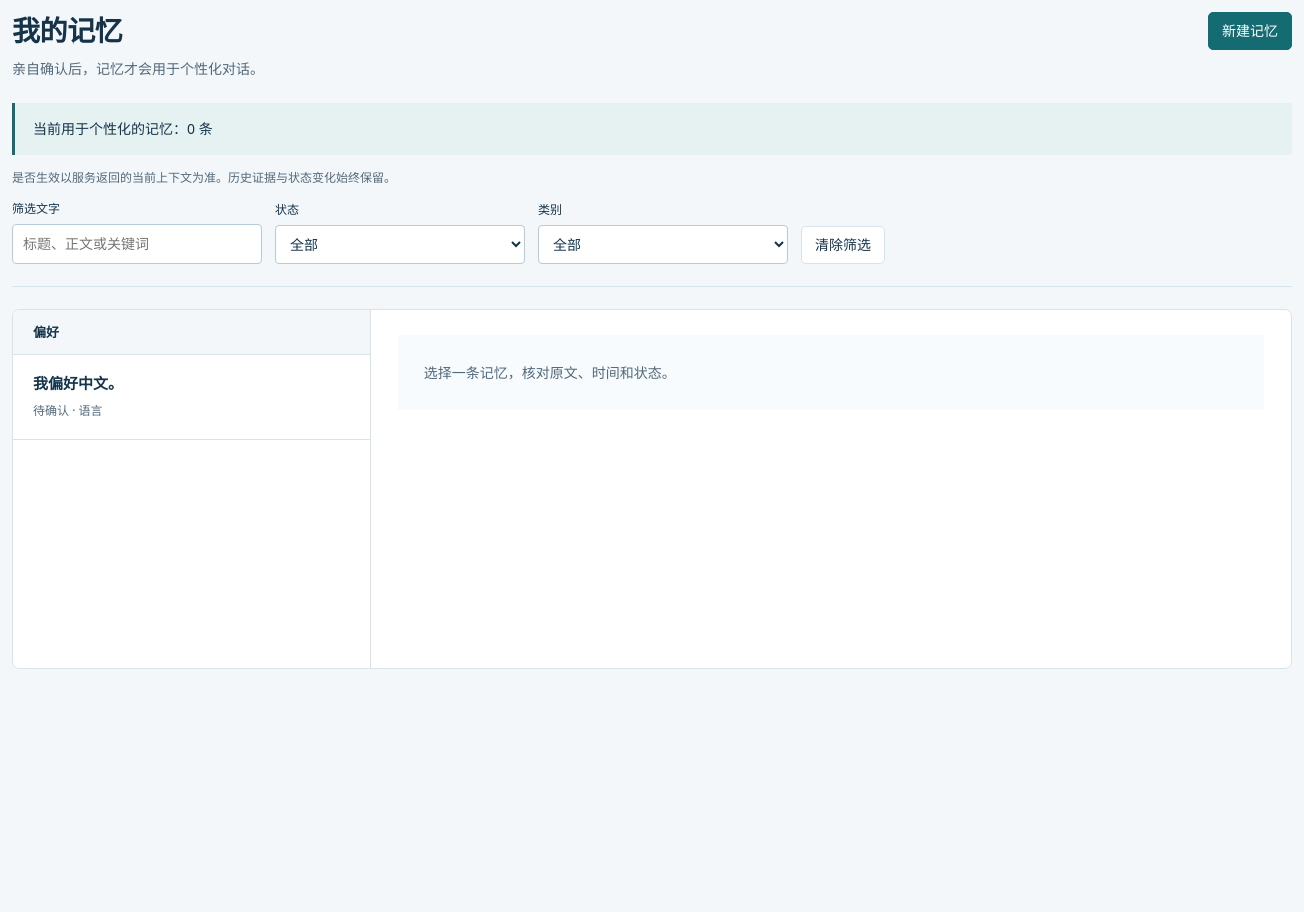
Scenario: confirm and expire a candidate refresh the authoritative active context
Click the button "我偏好中文。" at (78, 383), box x1=33 y1=374 x2=350 y2=394
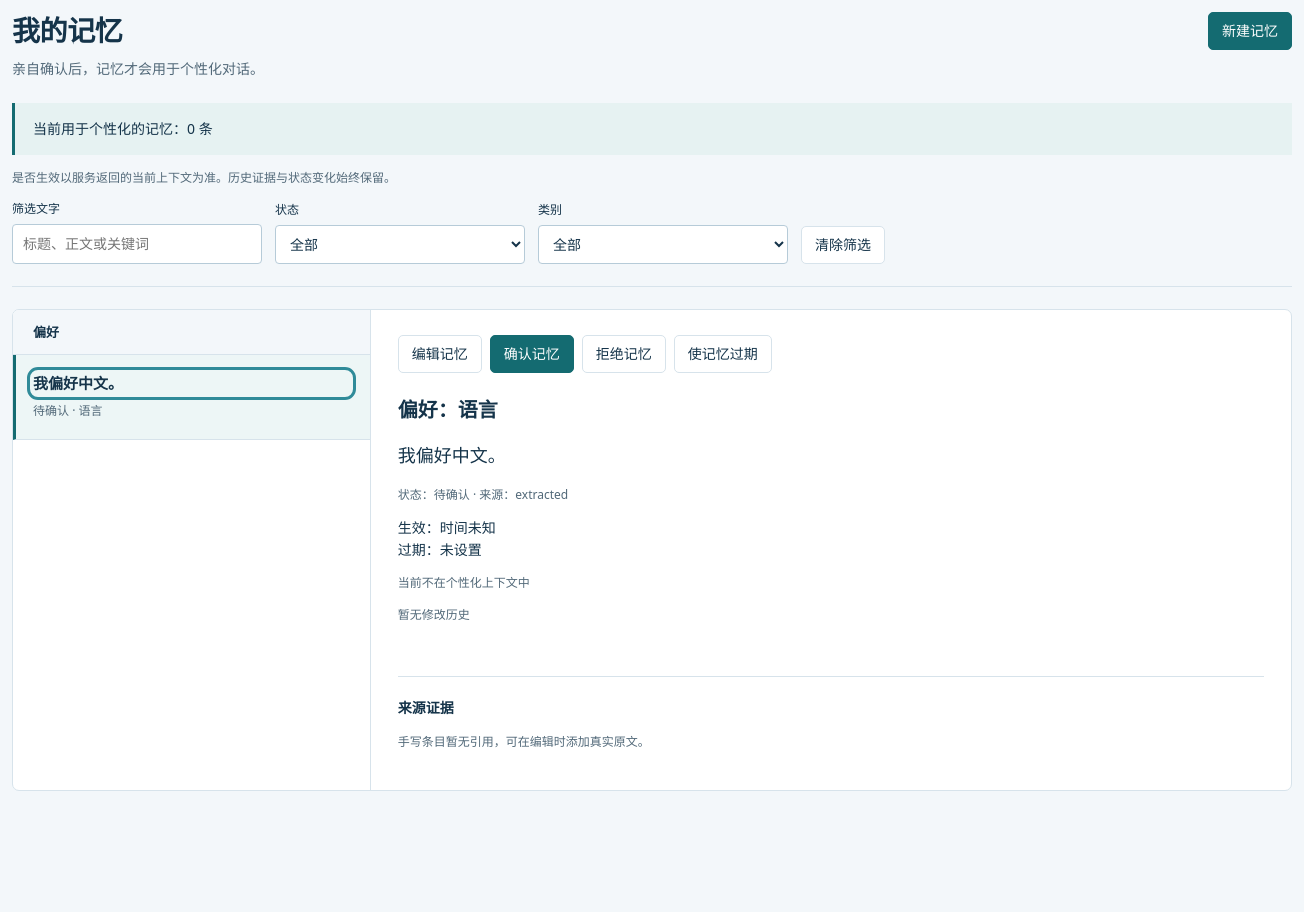
Click the button "确认记忆" at (532, 354), box x1=490 y1=335 x2=574 y2=373
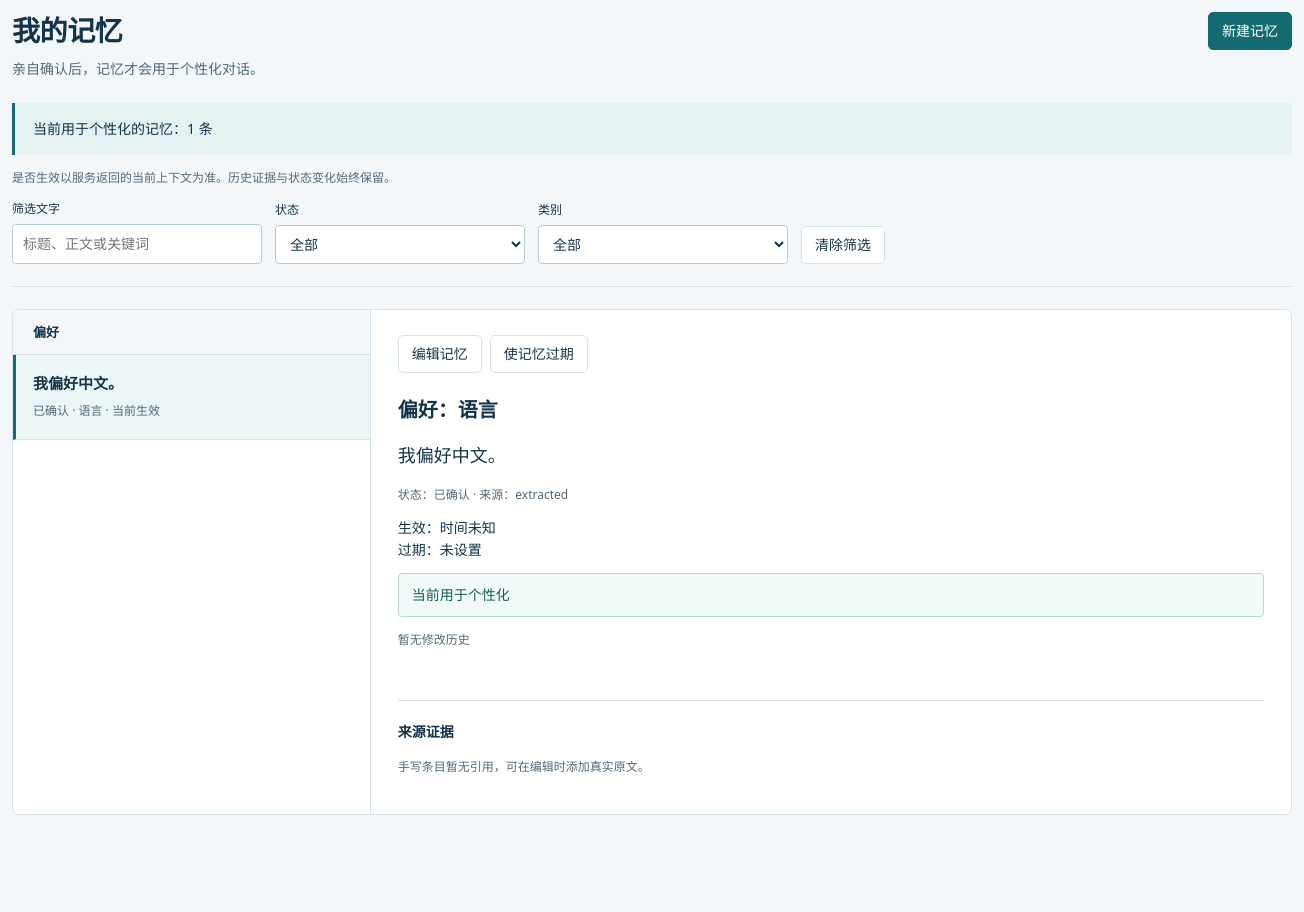
Check: the text "当前用于个性化的记忆：1 条" is shown, box x1=12 y1=104 x2=1292 y2=155
Click the button "使记忆过期" at (539, 354), box x1=490 y1=335 x2=588 y2=373
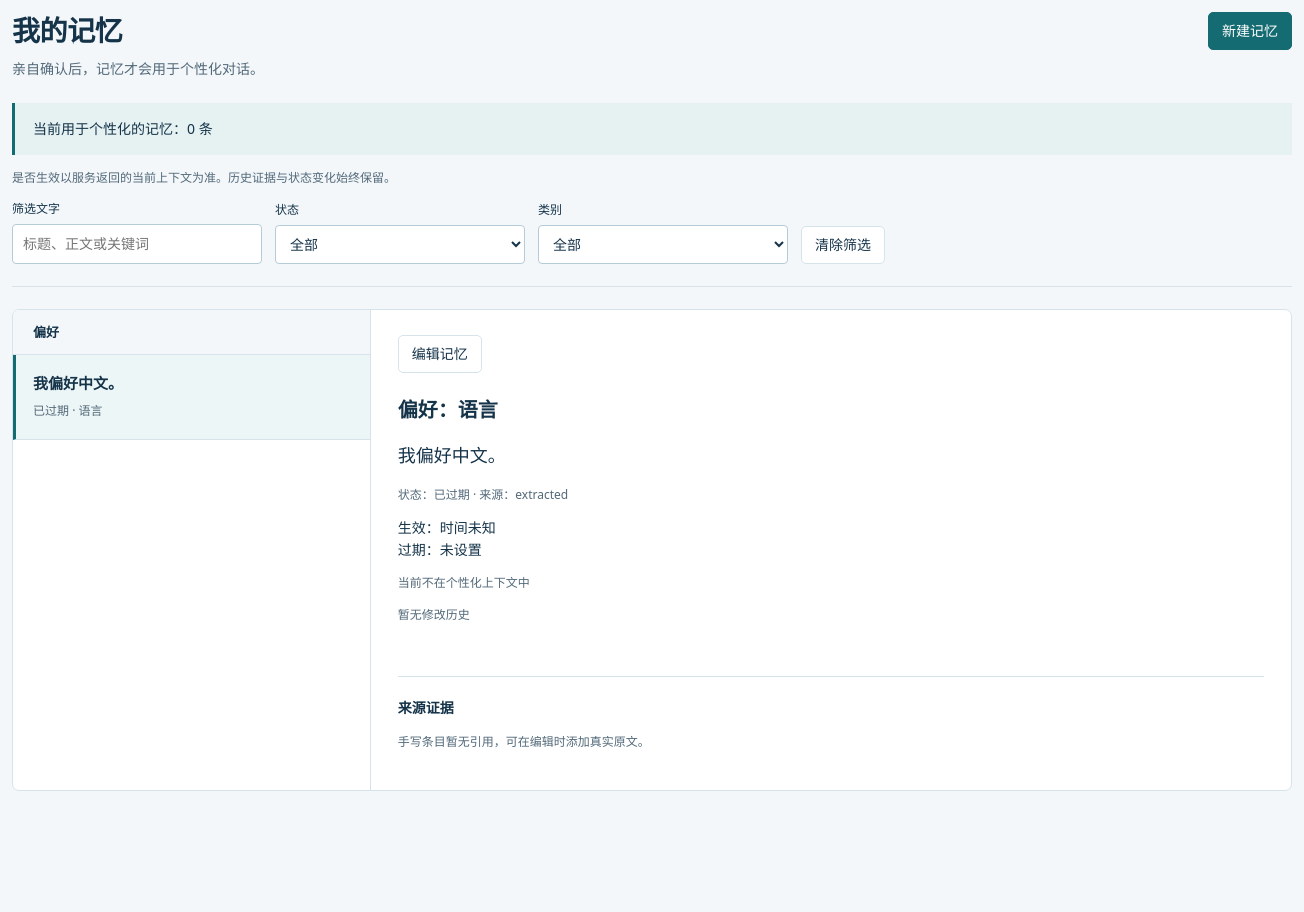
Check: the text "当前用于个性化的记忆：0 条" is shown, box x1=12 y1=104 x2=1292 y2=155
